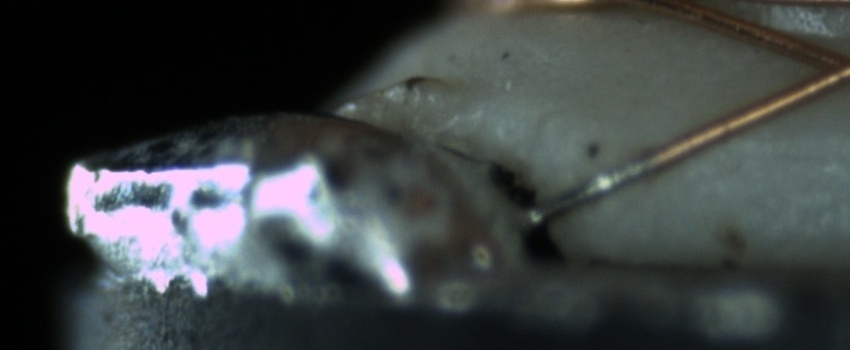CL: (781, 27, 848, 100)
DL: (706, 121, 849, 183)
TS: (522, 155, 653, 226)
TTCW: (528, 142, 673, 225)
